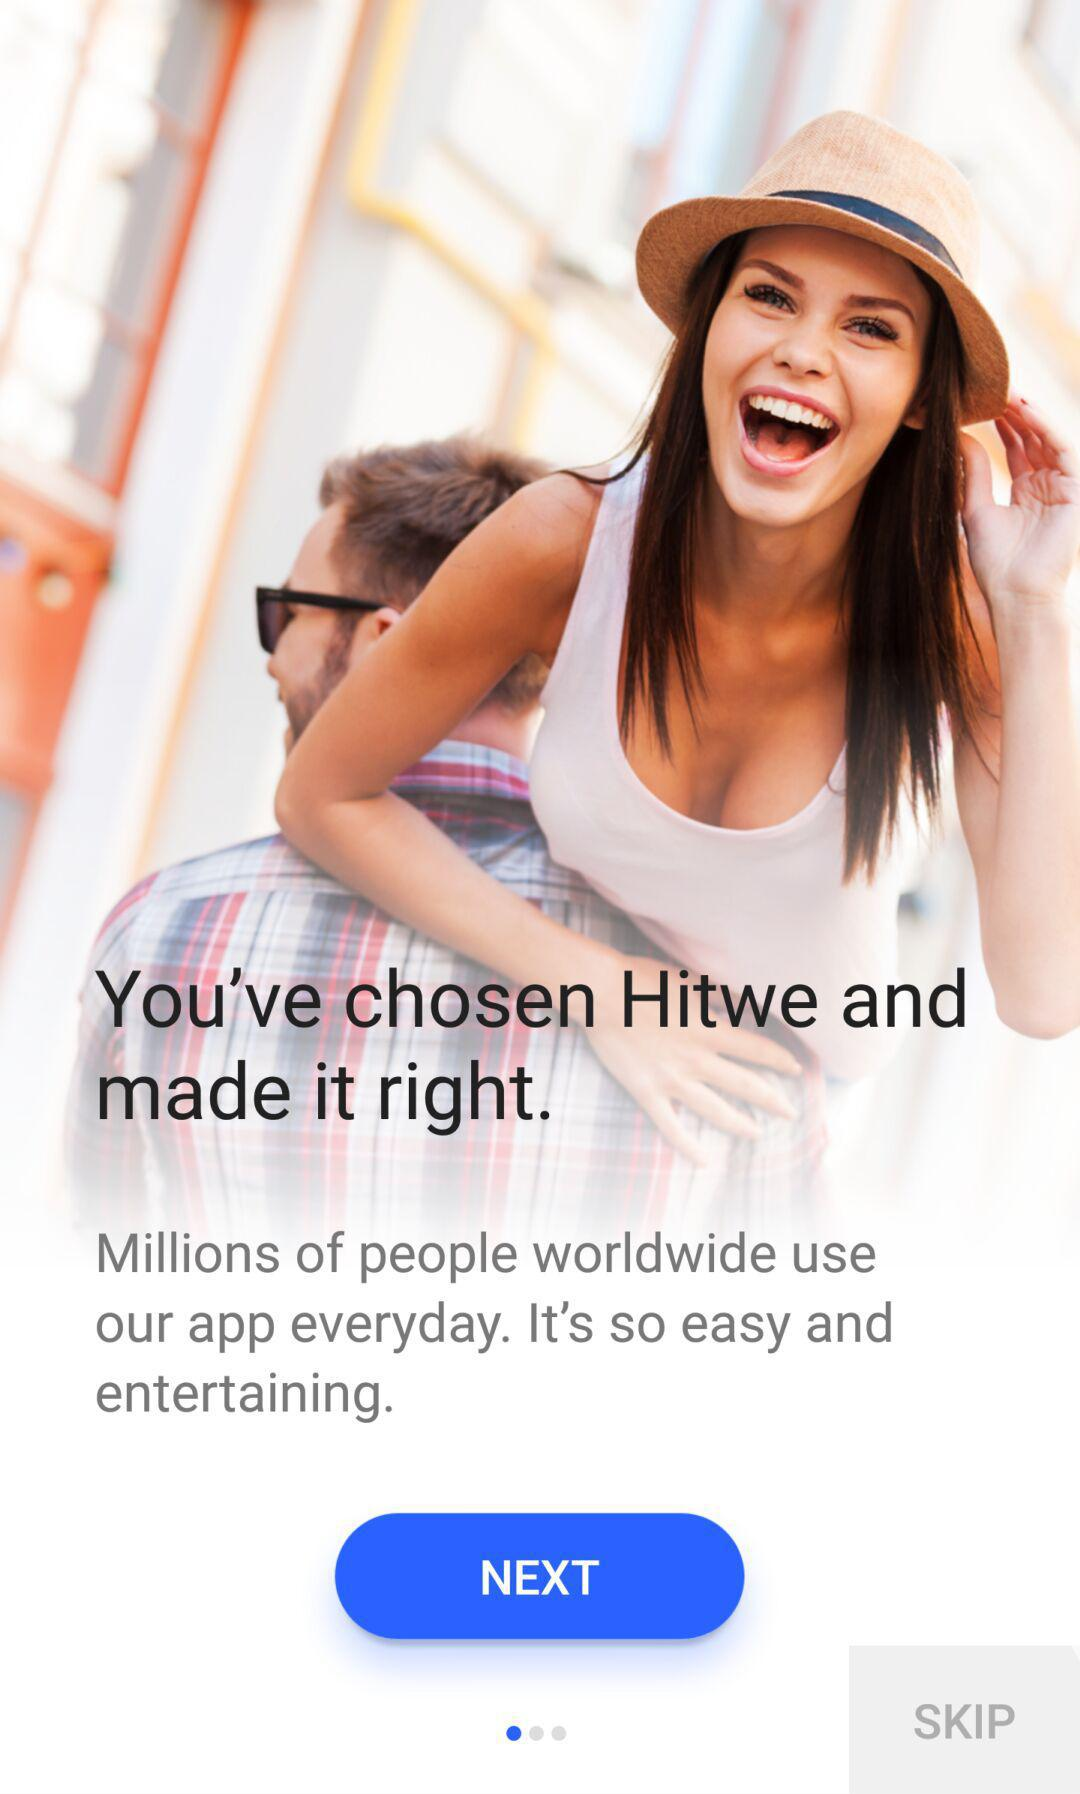BackgroundImage: (1, 3, 1080, 1794)
PageIndicator: (505, 1725, 568, 1743)
Text: (96, 1229, 893, 1425), (94, 966, 967, 1138)
TextButton: (334, 1512, 747, 1642), (848, 1645, 1080, 1791)
